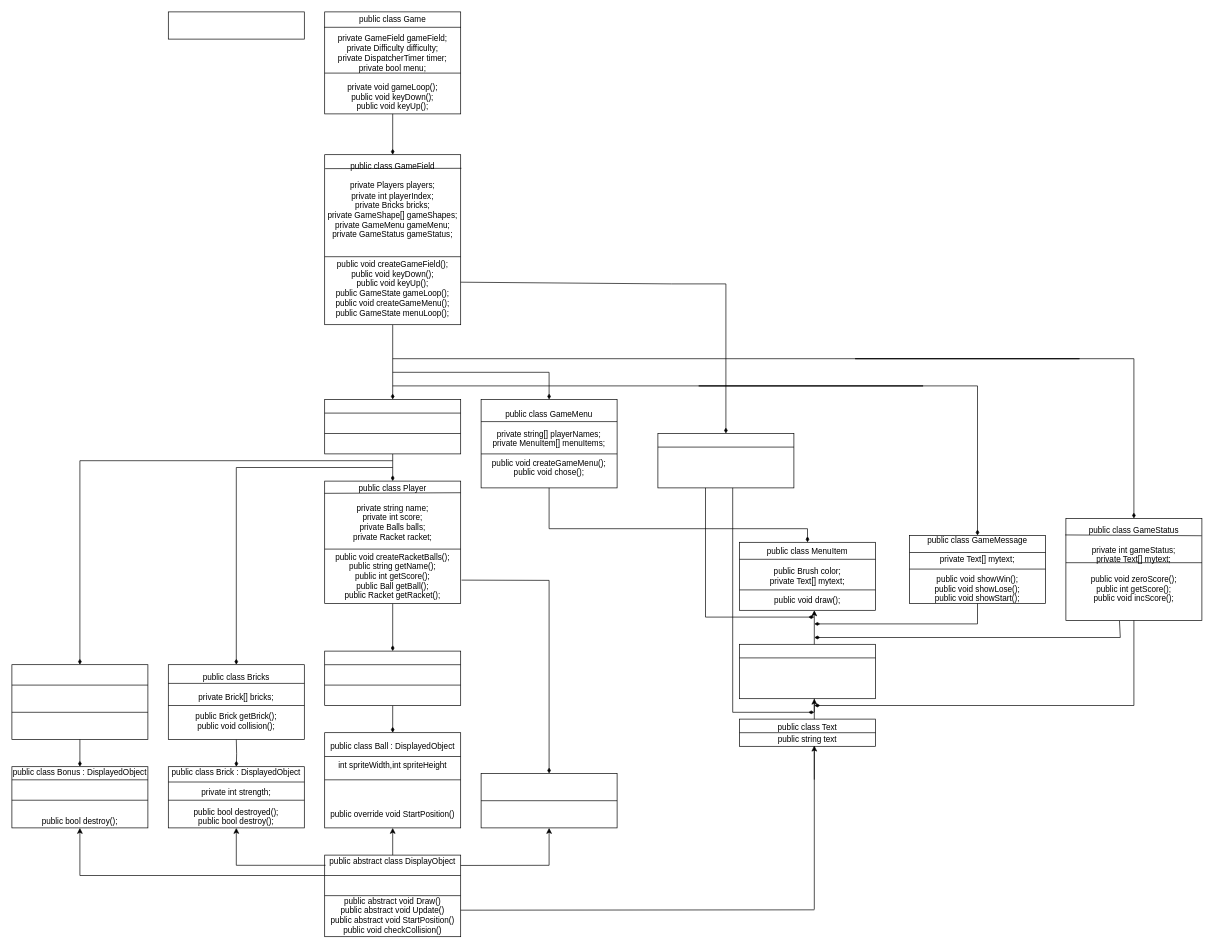
The diagram is 1214 pixels wide and 949 high, and some of its shapes have lost their labels. The centre of each missing label's shape, as x and y in pixels:
"public class Balls private Ball[] balls; public Ball getBall();" belongs at point (392, 678).
"public class Bonuses private Bonuses[] bonuses; public Bonus getBonus();" belongs at point (79, 702).
"public class Button public void ButtonColor() public void ButtonWidth()" belongs at point (807, 671).
"public class GameStorage public void Save() public void Load()" belongs at point (725, 460).
"public class Players private Player[] players; public Player getPlayer();" belongs at point (392, 426).
"public class Racket : DisplayedObject public void KeyHandler()" belongs at point (548, 800).
"Денисова Екатерина гр. 151003 Arcanoid C#" belongs at point (236, 25).
